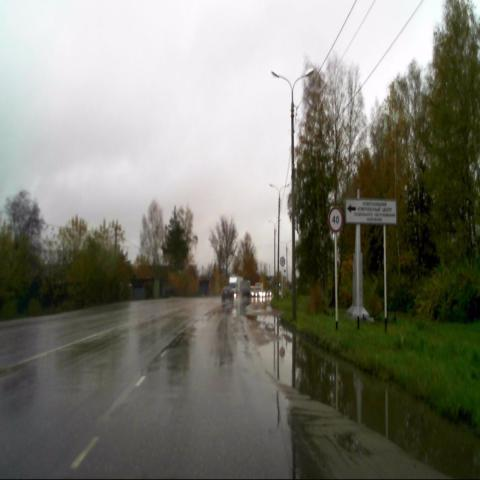3_24: (327, 206, 343, 233)
